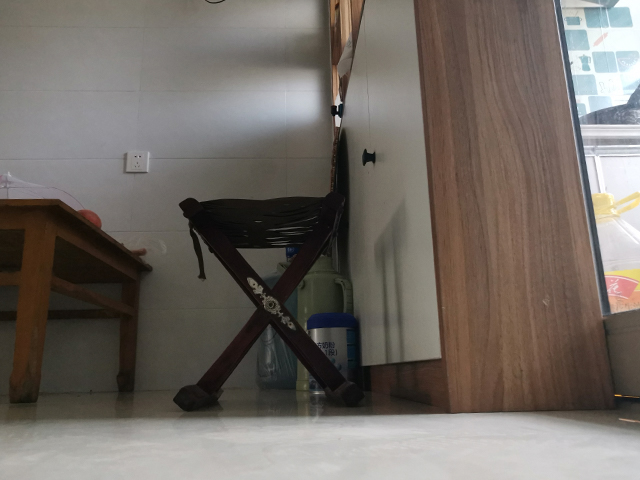cabinet: (326, 1, 621, 416)
stool: (170, 188, 366, 412)
table: (1, 196, 155, 406)
